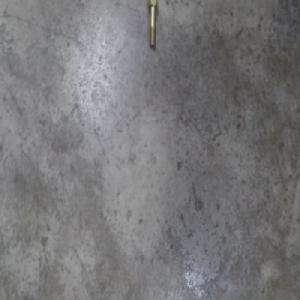Bolt: (146, 3, 160, 50)
